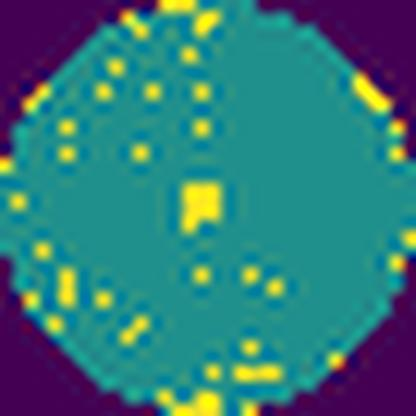Center: (174, 176, 222, 237)
